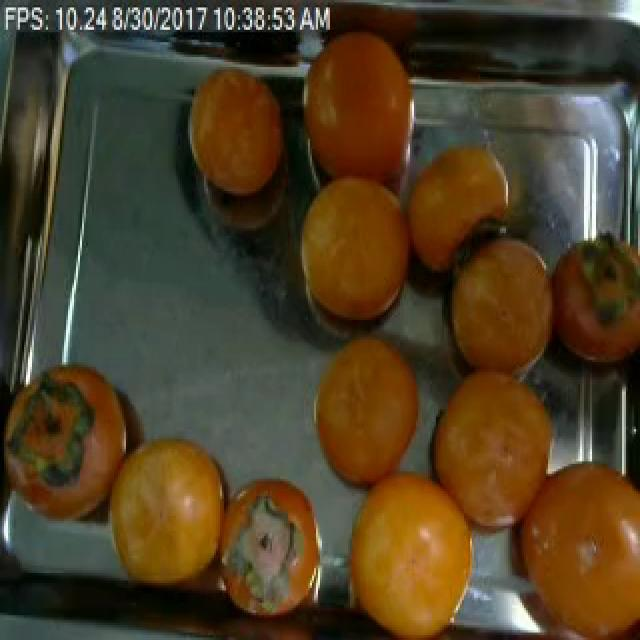Fruit: (328, 444, 494, 640), (286, 12, 434, 218), (90, 417, 244, 612), (294, 303, 432, 516), (282, 161, 434, 352), (4, 352, 144, 546), (434, 213, 570, 402), (392, 114, 522, 288), (172, 52, 300, 211), (542, 221, 640, 387)
